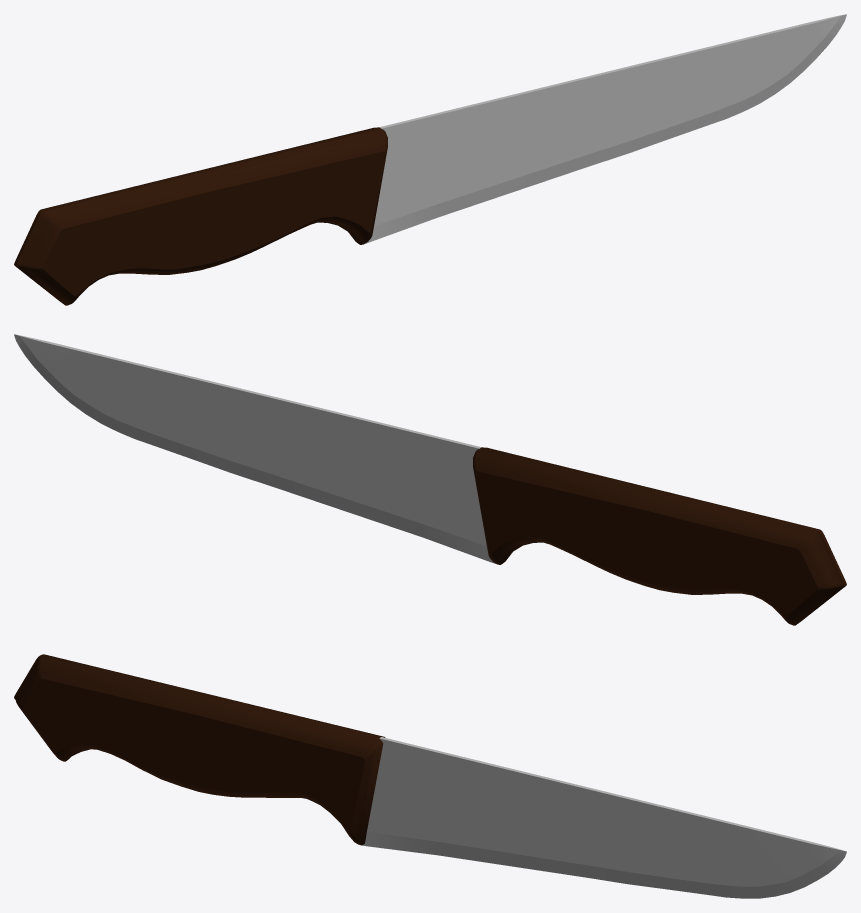
File: knife.fbx
The picture shows the model from 3 angles, top to bottom: view 1: azimuth 30°, elevation 25°; view 2: azimuth 150°, elevation 25°; view 3: azimuth 330°, elevation 25°; orthographic projection.
Parts seen in each view (by area): view 1: SM_KitchenRustyKnife; view 2: SM_KitchenRustyKnife; view 3: SM_KitchenRustyKnife.
Boxes of the visible parts, bbox=[...] form: SM_KitchenRustyKnife: bbox=[14, 14, 846, 305]; SM_KitchenRustyKnife: bbox=[14, 334, 846, 625]; SM_KitchenRustyKnife: bbox=[14, 654, 846, 898].
Size of the model in its own units: 32.41 by 4.15 by 1.4.
